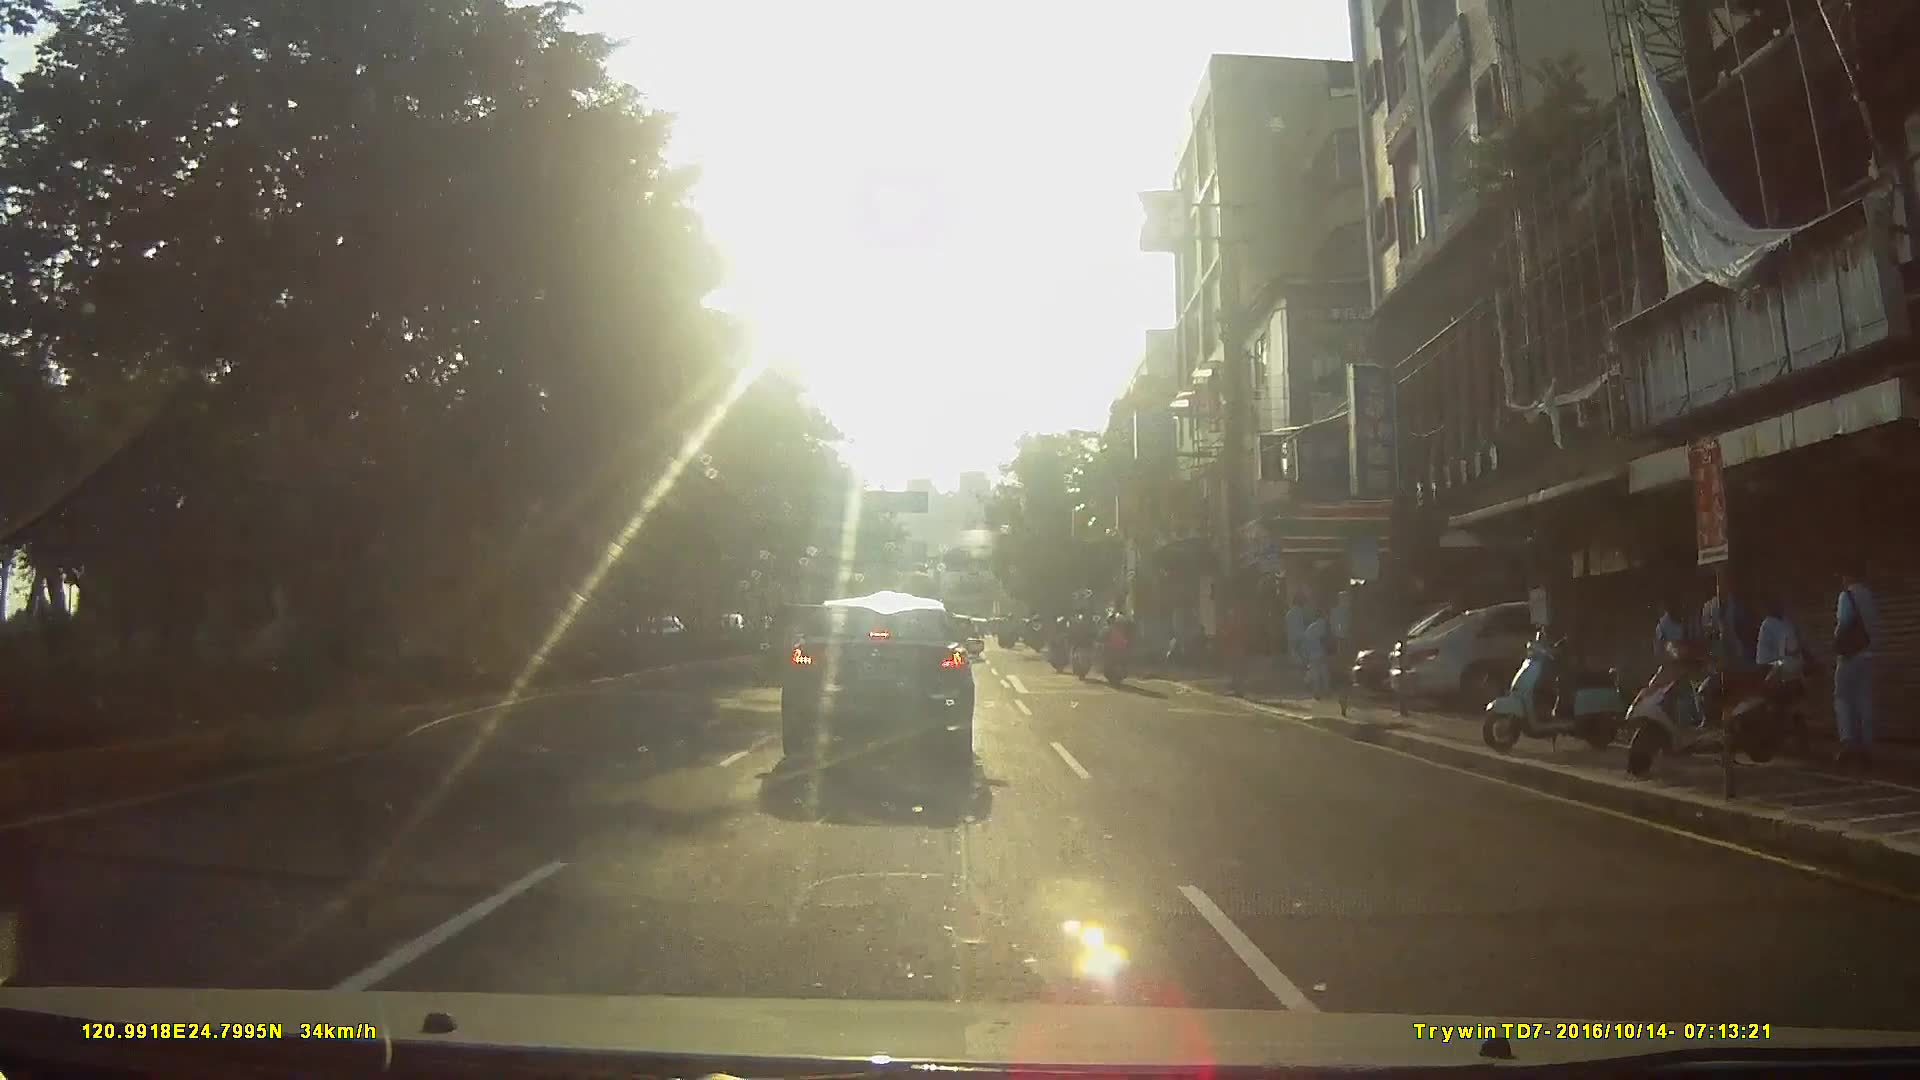pedestrian: (1830, 552, 1895, 774), (1696, 562, 1750, 739), (1757, 588, 1806, 737), (1656, 578, 1699, 721), (1299, 603, 1343, 702)
rider: (1099, 613, 1137, 694), (1067, 610, 1094, 685), (1046, 619, 1072, 679)
vehicle: (762, 584, 995, 782), (1386, 594, 1720, 714)
